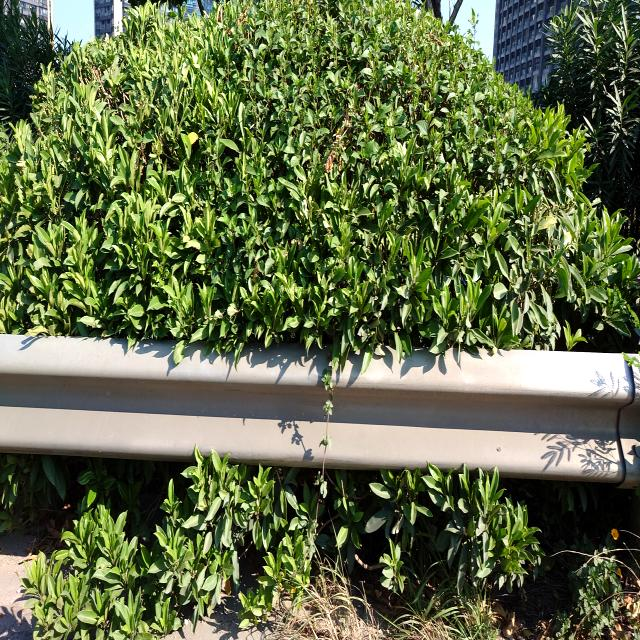Guard rail: (0, 336, 326, 467), (326, 351, 640, 487)
Tree: (0, 2, 640, 440), (28, 451, 544, 638)
